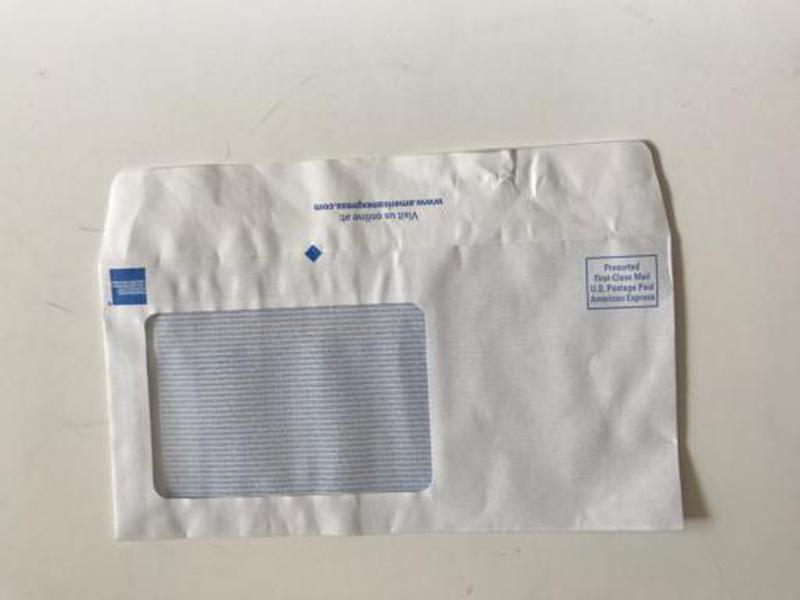paper: (88, 139, 693, 542)
